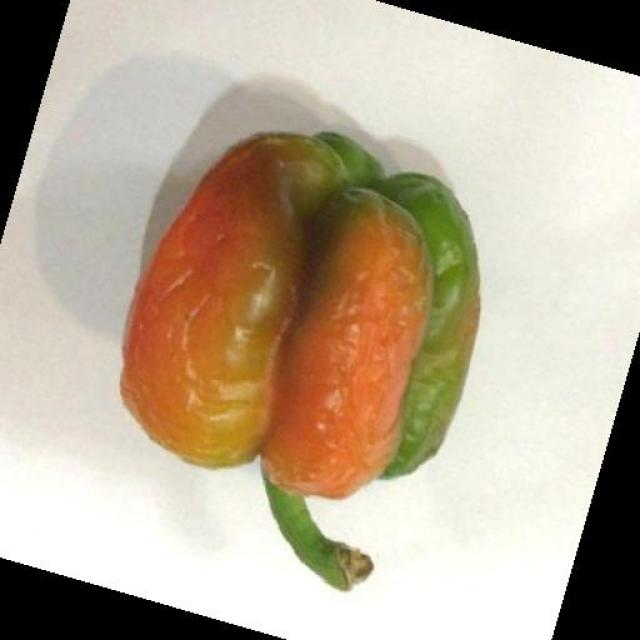Stale_Capsicum: (127, 131, 459, 556)
